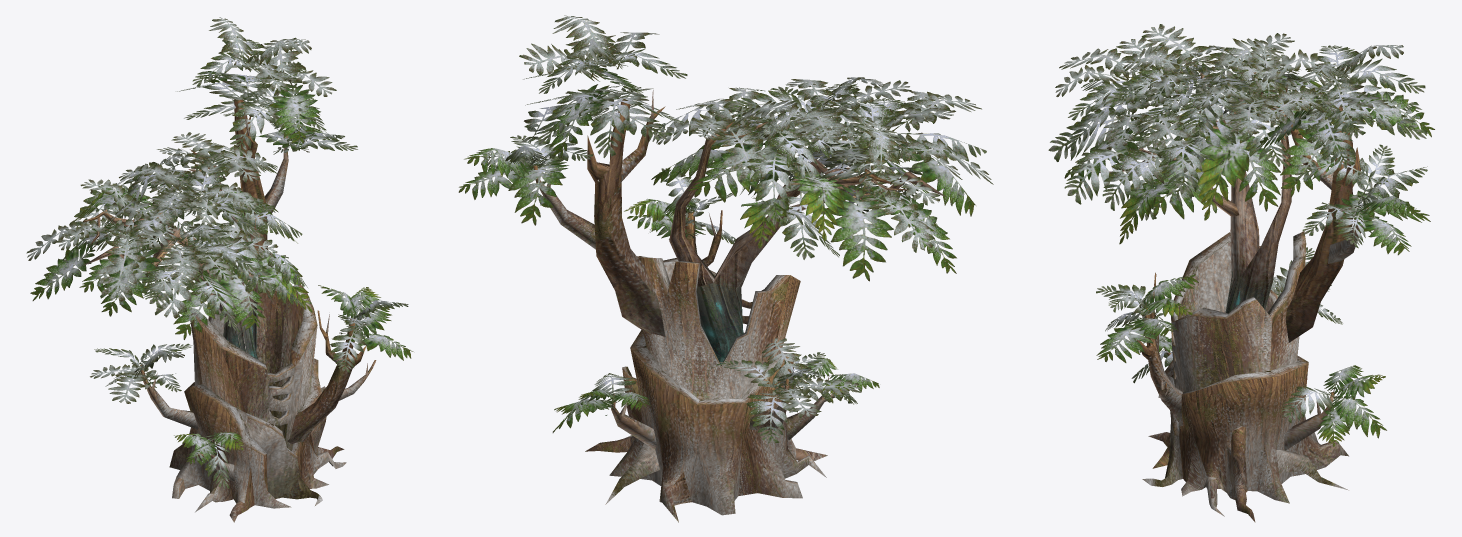
Rendered from 5015_Item_shu_1.FBX.
The picture shows the model from 3 angles, left to right: view 1: azimuth 30°, elevation 25°; view 2: azimuth 150°, elevation 25°; view 3: azimuth 270°, elevation 25°; orthographic projection. The views are drawn at different scales.
Parts seen in each view (by area): view 1: 5015_Item_shu_1; view 2: 5015_Item_shu_1; view 3: 5015_Item_shu_1.
Part boxes in pixels (x1,y1,x2,y2): 5015_Item_shu_1: (26,17,413,522); 5015_Item_shu_1: (458,15,993,522); 5015_Item_shu_1: (1048,24,1434,522).
Size of the model in its own units: 318 by 267 by 323.
